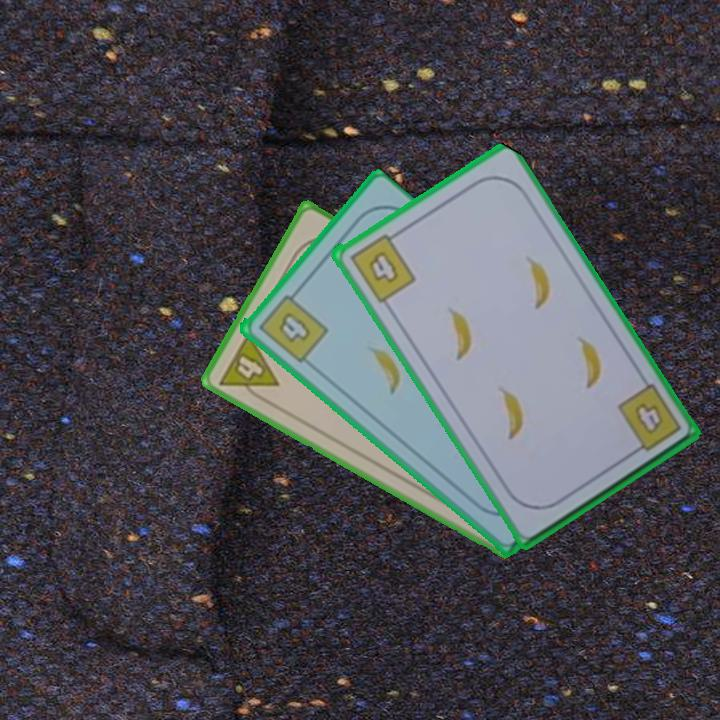4b: (253, 285, 330, 366), (345, 227, 419, 306), (630, 398, 666, 438)
4p: (215, 329, 282, 407)
